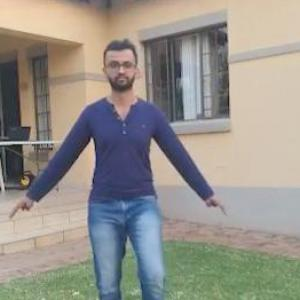land: (14, 34, 236, 299)
